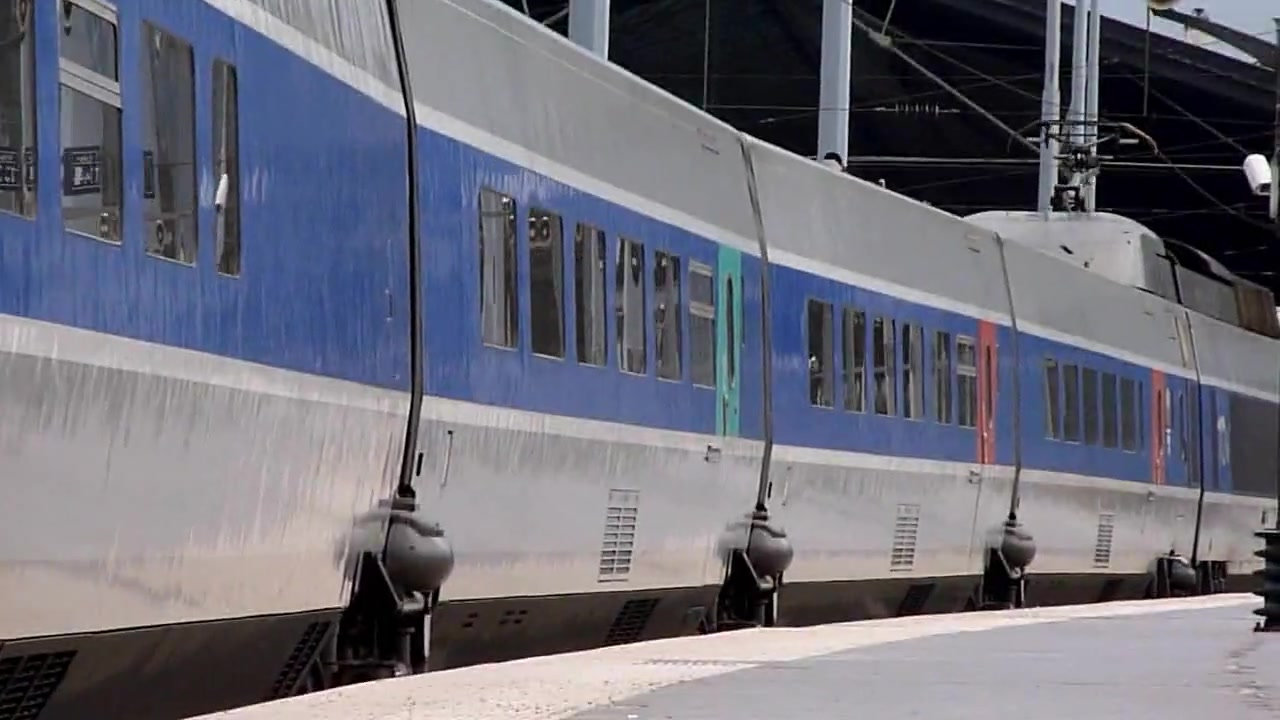train: (1, 1, 1280, 719)
